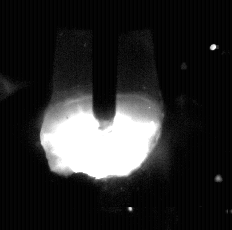arame: (93, 0, 117, 129)
poca: (42, 0, 164, 230)
